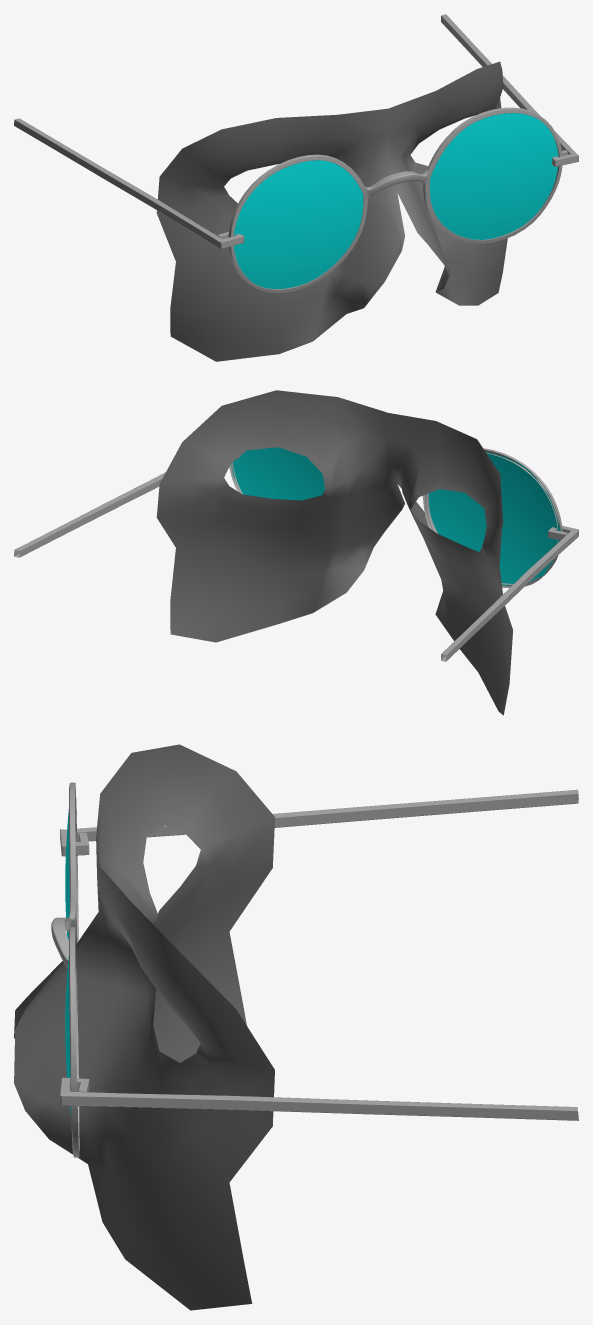
Rendered from glasses_Round.fbx.
3 renders of one model, top to bottom at view 1: azimuth 30°, elevation 25°; view 2: azimuth 150°, elevation 25°; view 3: azimuth 270°, elevation 25°, orthographic. The views are drawn at different scales.
Parts seen in each view (by area): view 1: geo_shadow, glasses_Round; view 2: geo_shadow, glasses_Round; view 3: geo_shadow, glasses_Round.
Part boxes in pixels (x1,y1,x2,y2): geo_shadow: (156, 61, 507, 361); glasses_Round: (14, 14, 578, 293); geo_shadow: (156, 390, 513, 715); glasses_Round: (14, 447, 578, 661); geo_shadow: (14, 744, 274, 1310); glasses_Round: (51, 782, 578, 1157).
Bounding box in the file's own units: 167 × 91.94 × 125.
